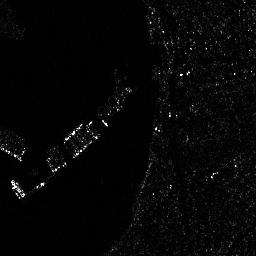ship: (9, 178, 26, 199)
